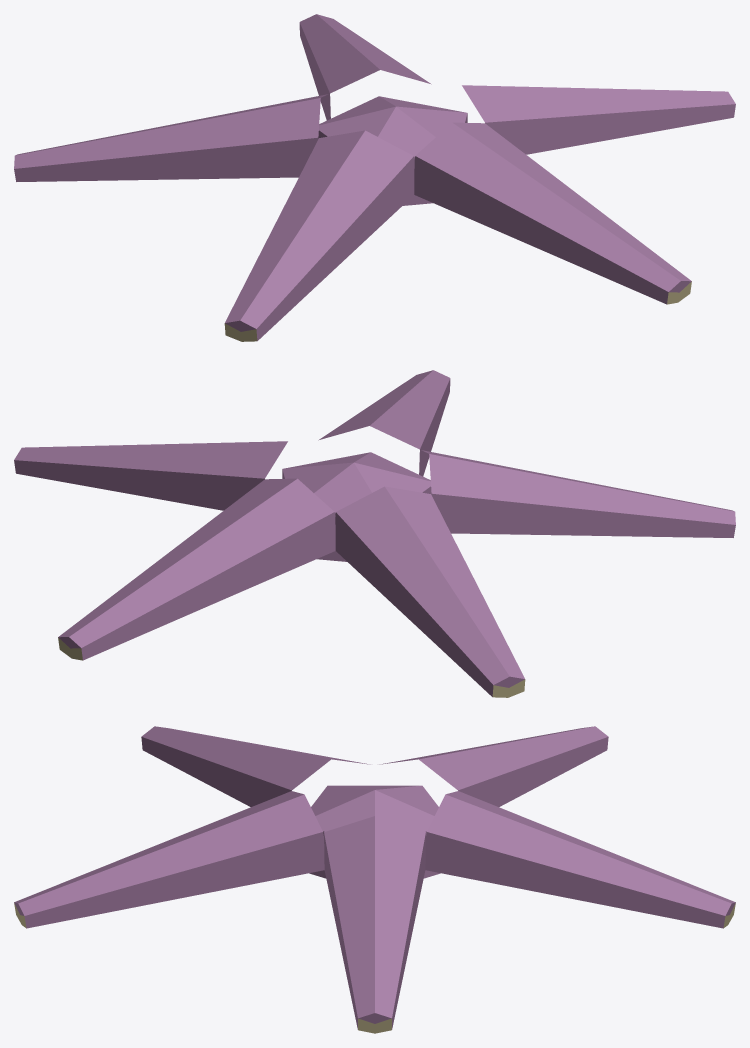
Rendered from ochre_star.glb.
3 views of the same model, one above another, from view 1: azimuth 30°, elevation 25°; view 2: azimuth 150°, elevation 25°; view 3: azimuth 270°, elevation 25° (orthographic). The views are drawn at different scales.
Parts seen in each view (by area): view 1: ochre_star; view 2: ochre_star; view 3: ochre_star.
Boxes of the visible parts, left/top/right/bottom form: ochre_star: left=14, top=14, right=735, bottom=341; ochre_star: left=14, top=370, right=735, bottom=697; ochre_star: left=14, top=726, right=735, bottom=1033.
Size of the model in its own units: 0.2768 by 0.0436 by 0.2906.
